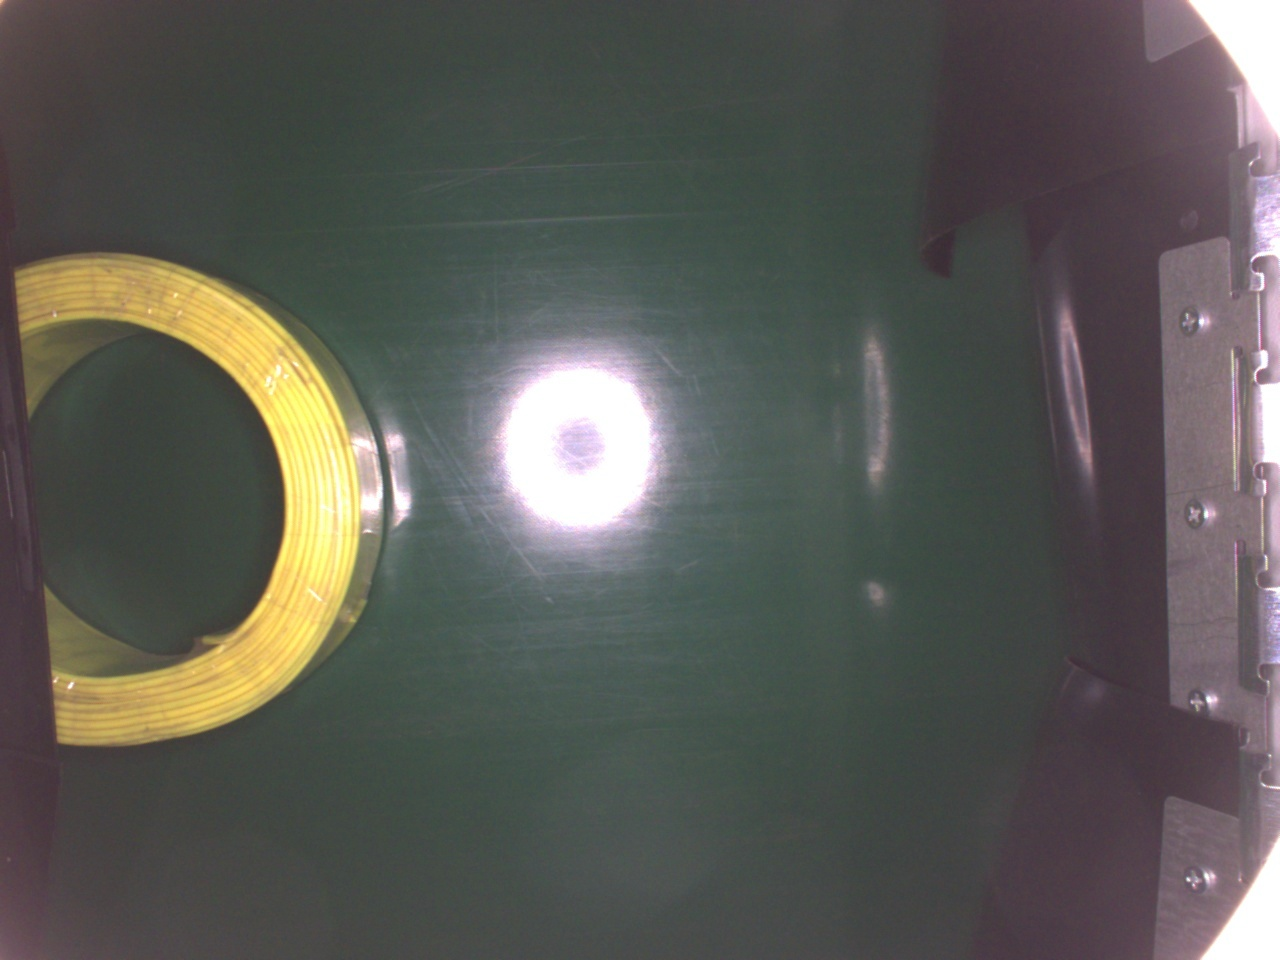yellow: (13, 249, 384, 750)
